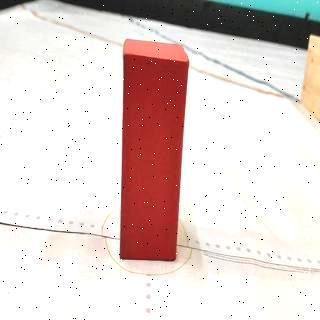redbox: (118, 38, 188, 260)
